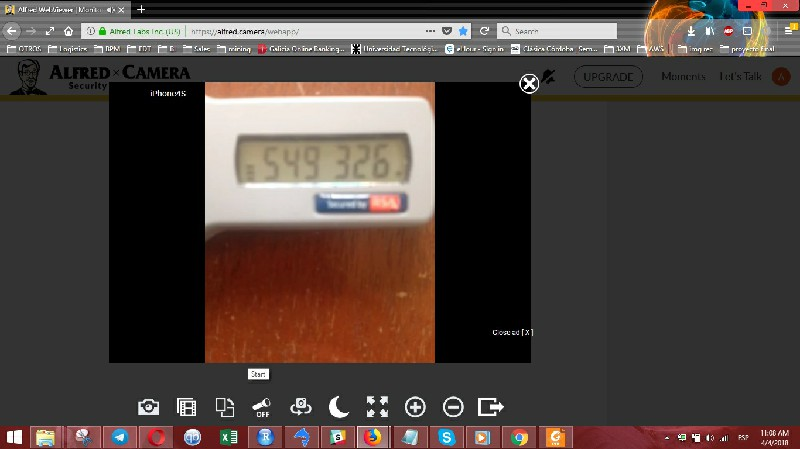display: (241, 141, 404, 183)
